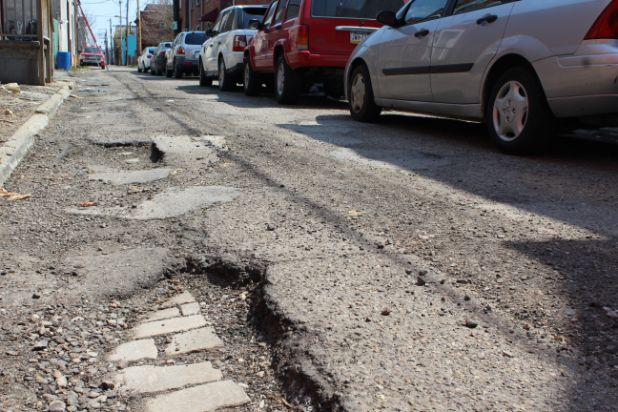pothole: (95, 239, 348, 412), (94, 135, 166, 170)
